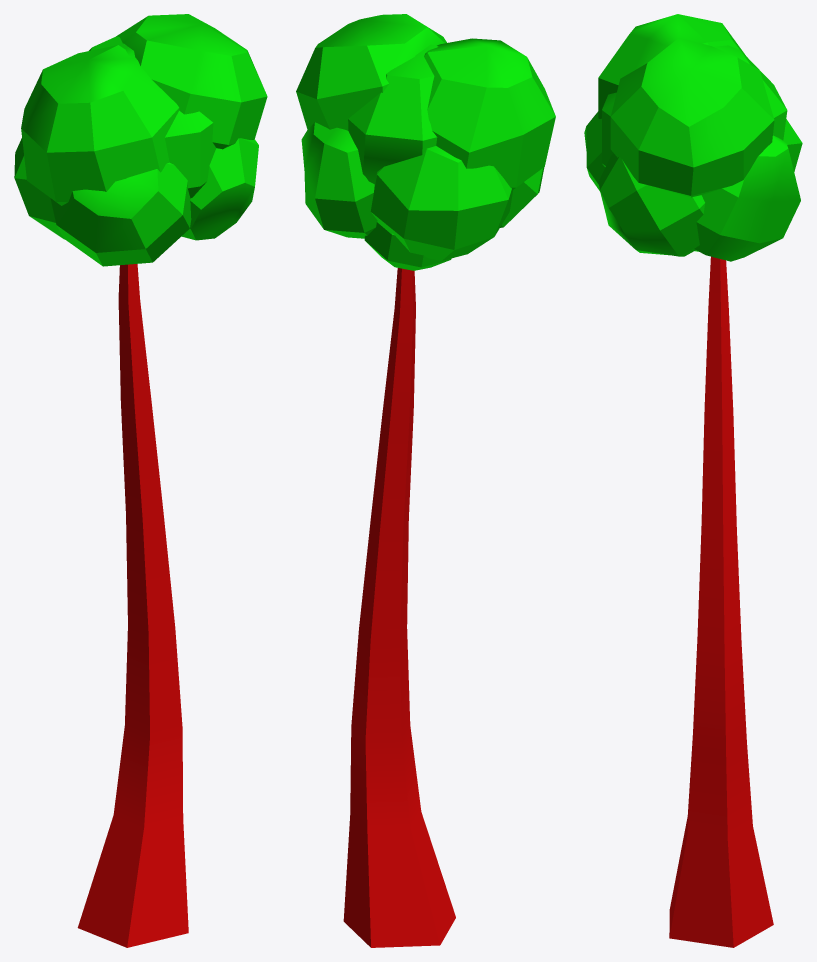
Rendered from Jungle_Tree_1.fbx.
3 views of the same model, side by side, from view 1: azimuth 30°, elevation 25°; view 2: azimuth 150°, elevation 25°; view 3: azimuth 270°, elevation 25° (orthographic).
Parts seen in each view (by area): view 1: MESH_Jungle_Tree_1; view 2: MESH_Jungle_Tree_1; view 3: MESH_Jungle_Tree_1.
Boxes of the visible parts, x1,y1,x2,y2 form: MESH_Jungle_Tree_1: (14,14,267,947); MESH_Jungle_Tree_1: (296,14,555,947); MESH_Jungle_Tree_1: (584,14,802,947).
Bounding box in the file's own units: 6.94 × 25.94 × 5.81.
